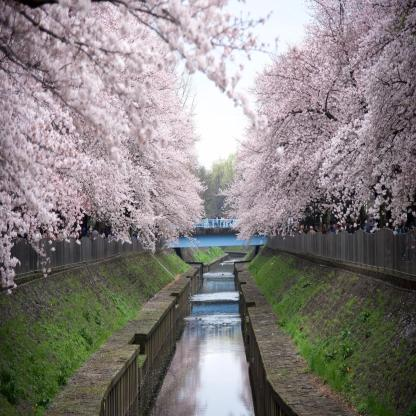Someiyoshino: (1, 2, 201, 239), (221, 6, 416, 224)
